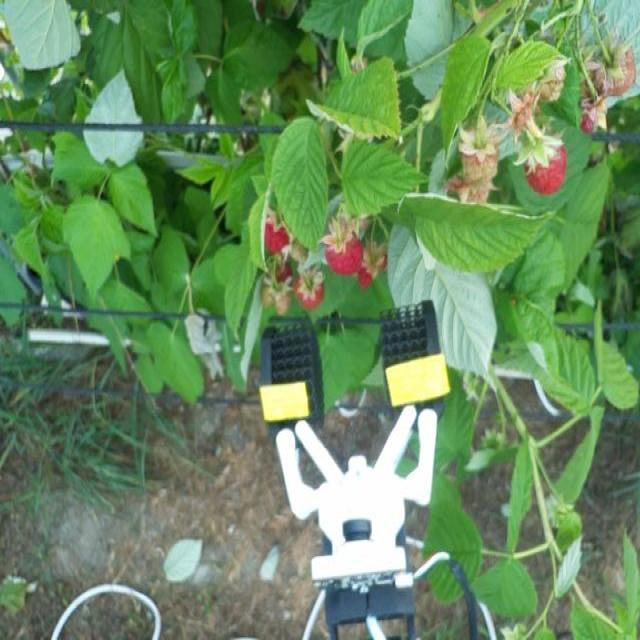Riped berries: (512, 124, 572, 200), (323, 220, 363, 276), (296, 273, 330, 308), (264, 213, 293, 254), (359, 248, 383, 290)
